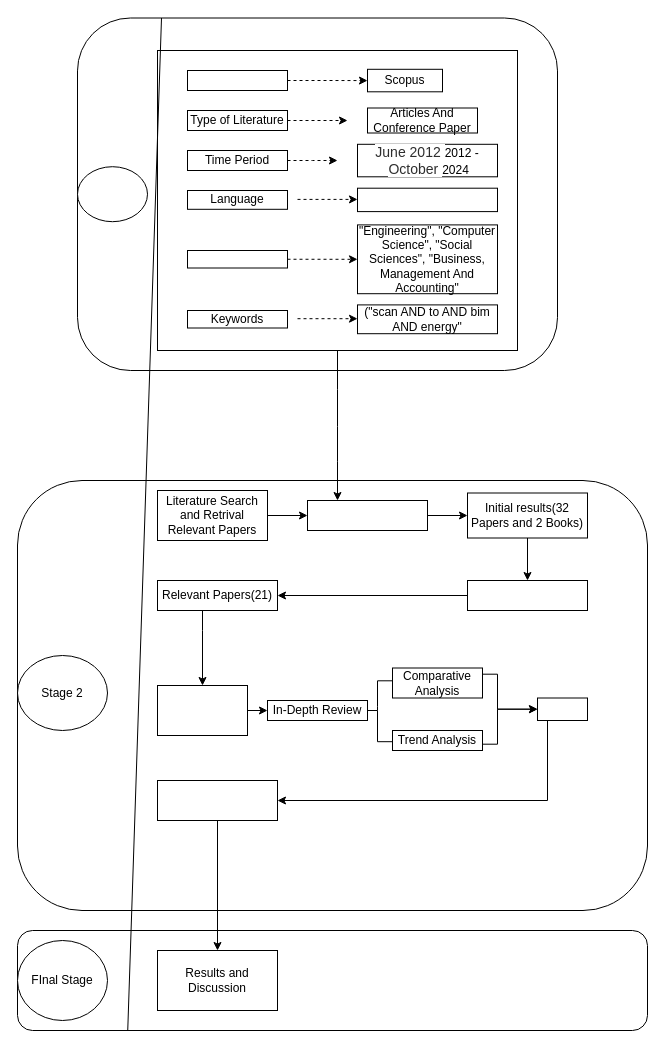
Image size: 665x1048. Some labels were removed from this diagram. The shapes that lost their labels are listed below. From the top down, each one's centre as x and y in pixels, then its label:
pixel 237 80: Database
pixel 112 194: Stage 1
pixel 427 199: English
pixel 237 259: Subject Area
pixel 367 515: Research Databases
pixel 527 595: Scanning process
pixel 202 710: Literature Content Analysis
pixel 562 708: Python
pixel 217 800: 21 Papers
